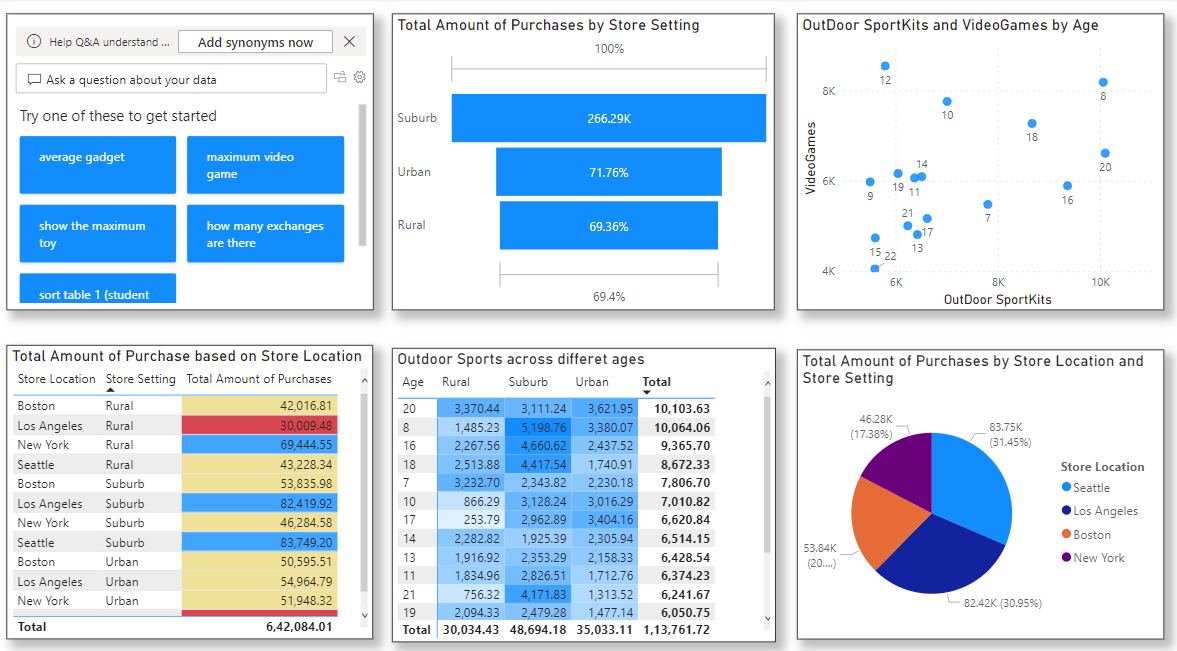

The page's visual inventory and layout, read from the dashboard file:
{"tool":"powerbi","page":{"name":"Page 1","canvas":[1280,720],"ordinal":0},"visuals":[{"type":"tableEx","title":"Total Amount of Purchase based on Store Location","fields":{"Values":["Table 1 (Student Survey).Store Location","Table 1 (Student Survey).Store Setting","Sum(Table 1 (Student Survey).Total Amount of Purchases)"]},"box":[17.1,376,395,317.2],"z":0},{"type":"pivotTable","title":"Outdoor Sports across differet ages","fields":{"Rows":["Table 1 (Student Survey).Age"],"Columns":["Table 1 (Student Survey).Store Setting"],"Values":["Sum(Table 1 (Student Survey).OutDoor SportKits)"]},"box":[433,377.9,414,317.2],"z":1000},{"type":"funnel","fields":{"Category":["Table 1 (Student Survey).Store Setting"],"Y":["Sum(Table 1 (Student Survey).Total Amount of Purchases)"]},"box":[433.6,17,412.8,320],"z":2000},{"type":"pieChart","fields":{"Category":["Table 1 (Student Survey).Store Location"],"Y":["Sum(Table 1 (Student Survey).Total Amount of Purchases)"],"Series":["Table 1 (Student Survey).Store Setting"]},"box":[871,380.6,395.7,312.4],"z":3000},{"type":"scatterChart","fields":{"Category":["Table 1 (Student Survey).Age"],"X":["Sum(Table 1 (Student Survey).OutDoor SportKits)"],"Y":["Sum(Table 1 (Student Survey).VideoGames)"]},"box":[871,17,395.7,320],"z":4000},{"type":"qnaVisual","box":[17,17,395.7,320],"z":5000}]}

Visuals, with their boxes in screenshot pixels (x1, y1, x2, y2), scaled from the page's 1280x720 canvas onto the 1177x651 screenshot:
"Total Amount of Purchase based on Store Location" tableEx: (left=16, top=340, right=379, bottom=627)
"Outdoor Sports across differet ages" pivotTable: (left=398, top=342, right=779, bottom=628)
funnel - Table 1 (Student Survey).Store Setting x Sum(Table 1 (Student Survey).Total Amount of Purchases): (left=399, top=15, right=778, bottom=305)
pieChart - Table 1 (Student Survey).Store Location x Sum(Table 1 (Student Survey).Total Amount of Purchases): (left=801, top=344, right=1165, bottom=627)
scatterChart - Table 1 (Student Survey).Age x Sum(Table 1 (Student Survey).OutDoor SportKits): (left=801, top=15, right=1165, bottom=305)
qnaVisual: (left=16, top=15, right=379, bottom=305)
